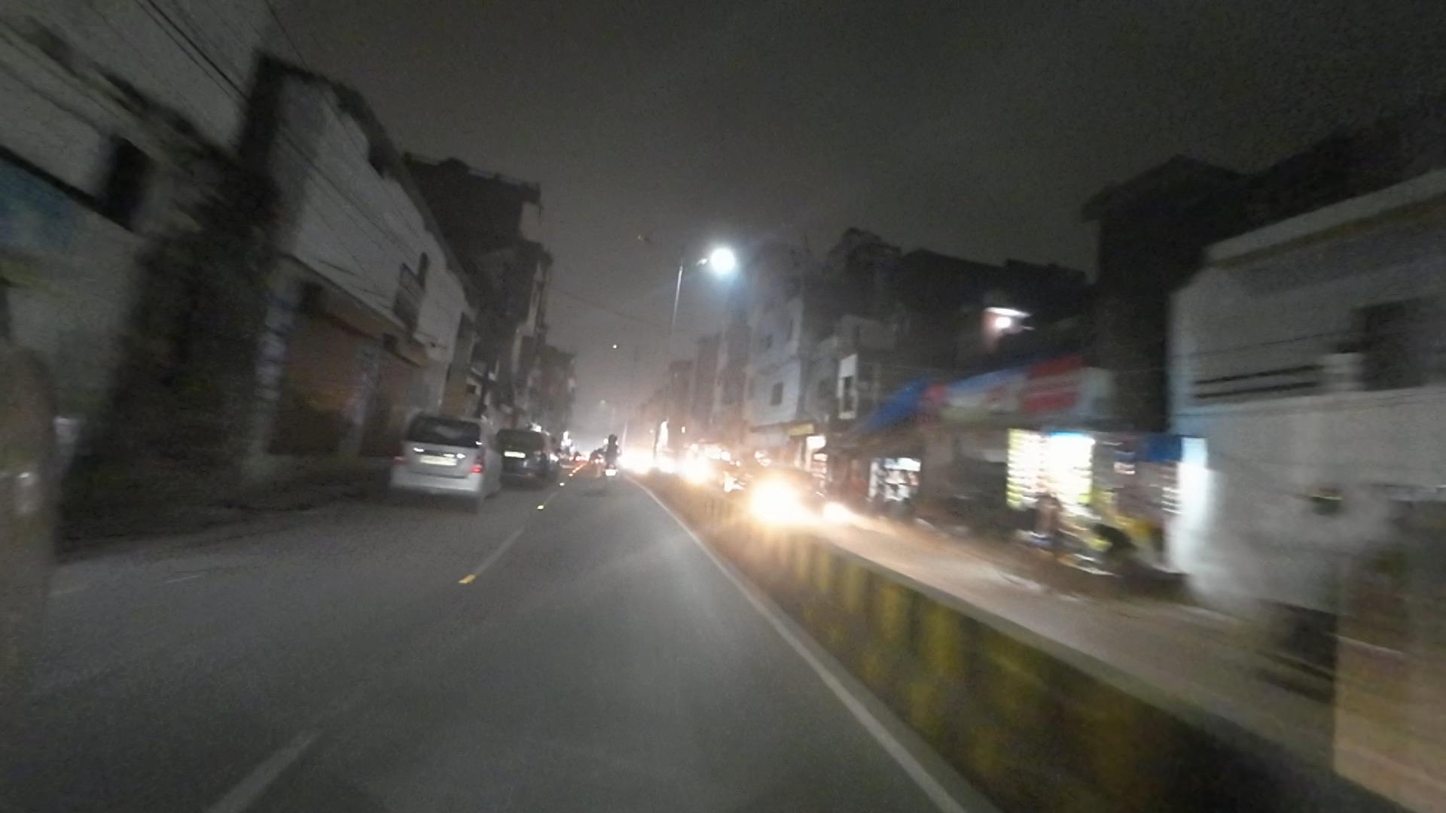streetlight: (635, 231, 676, 259)
